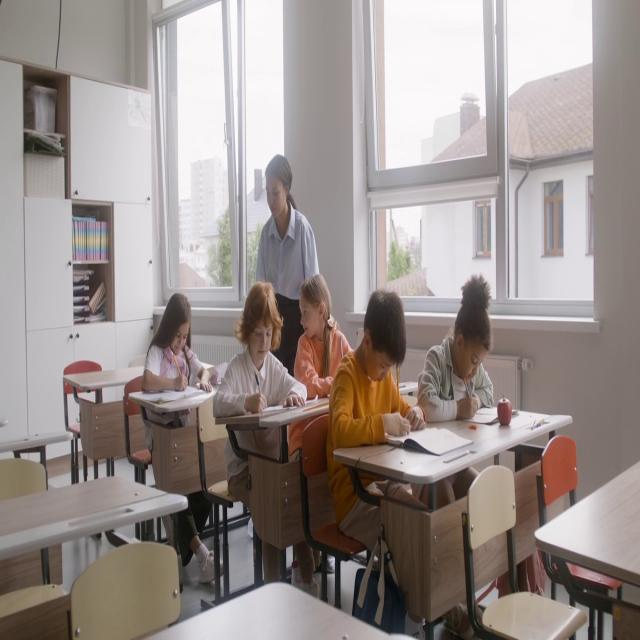turning: (291, 274, 344, 426)
writing: (331, 289, 458, 636), (214, 281, 309, 589), (418, 274, 494, 428), (142, 292, 216, 444)
